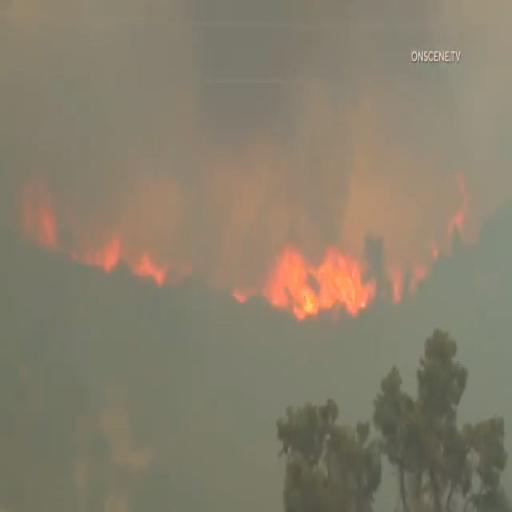fire: (266, 218, 370, 328)
